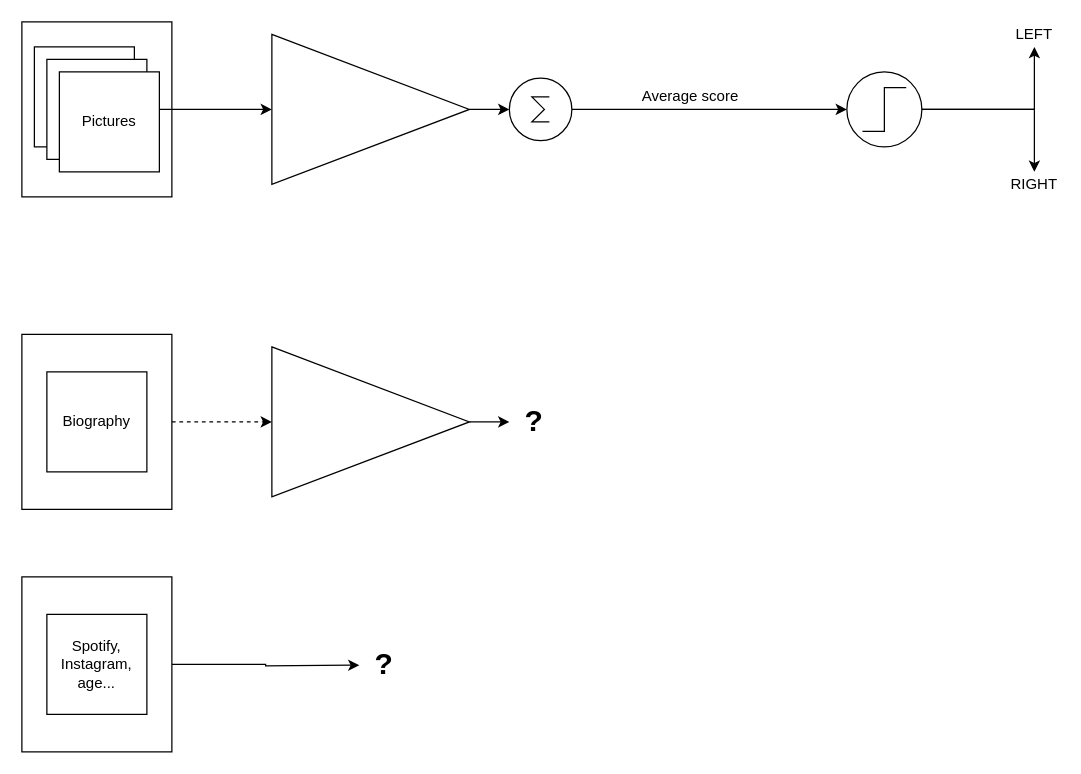
The diagram is 1081 pixels wide and 774 high, and some of its shapes have lost their labels. Here are the shapes that lost their labels. From the top down, the centre of each, then its label:
pixel 370 108: CNN
pixel 370 421: RNN?
